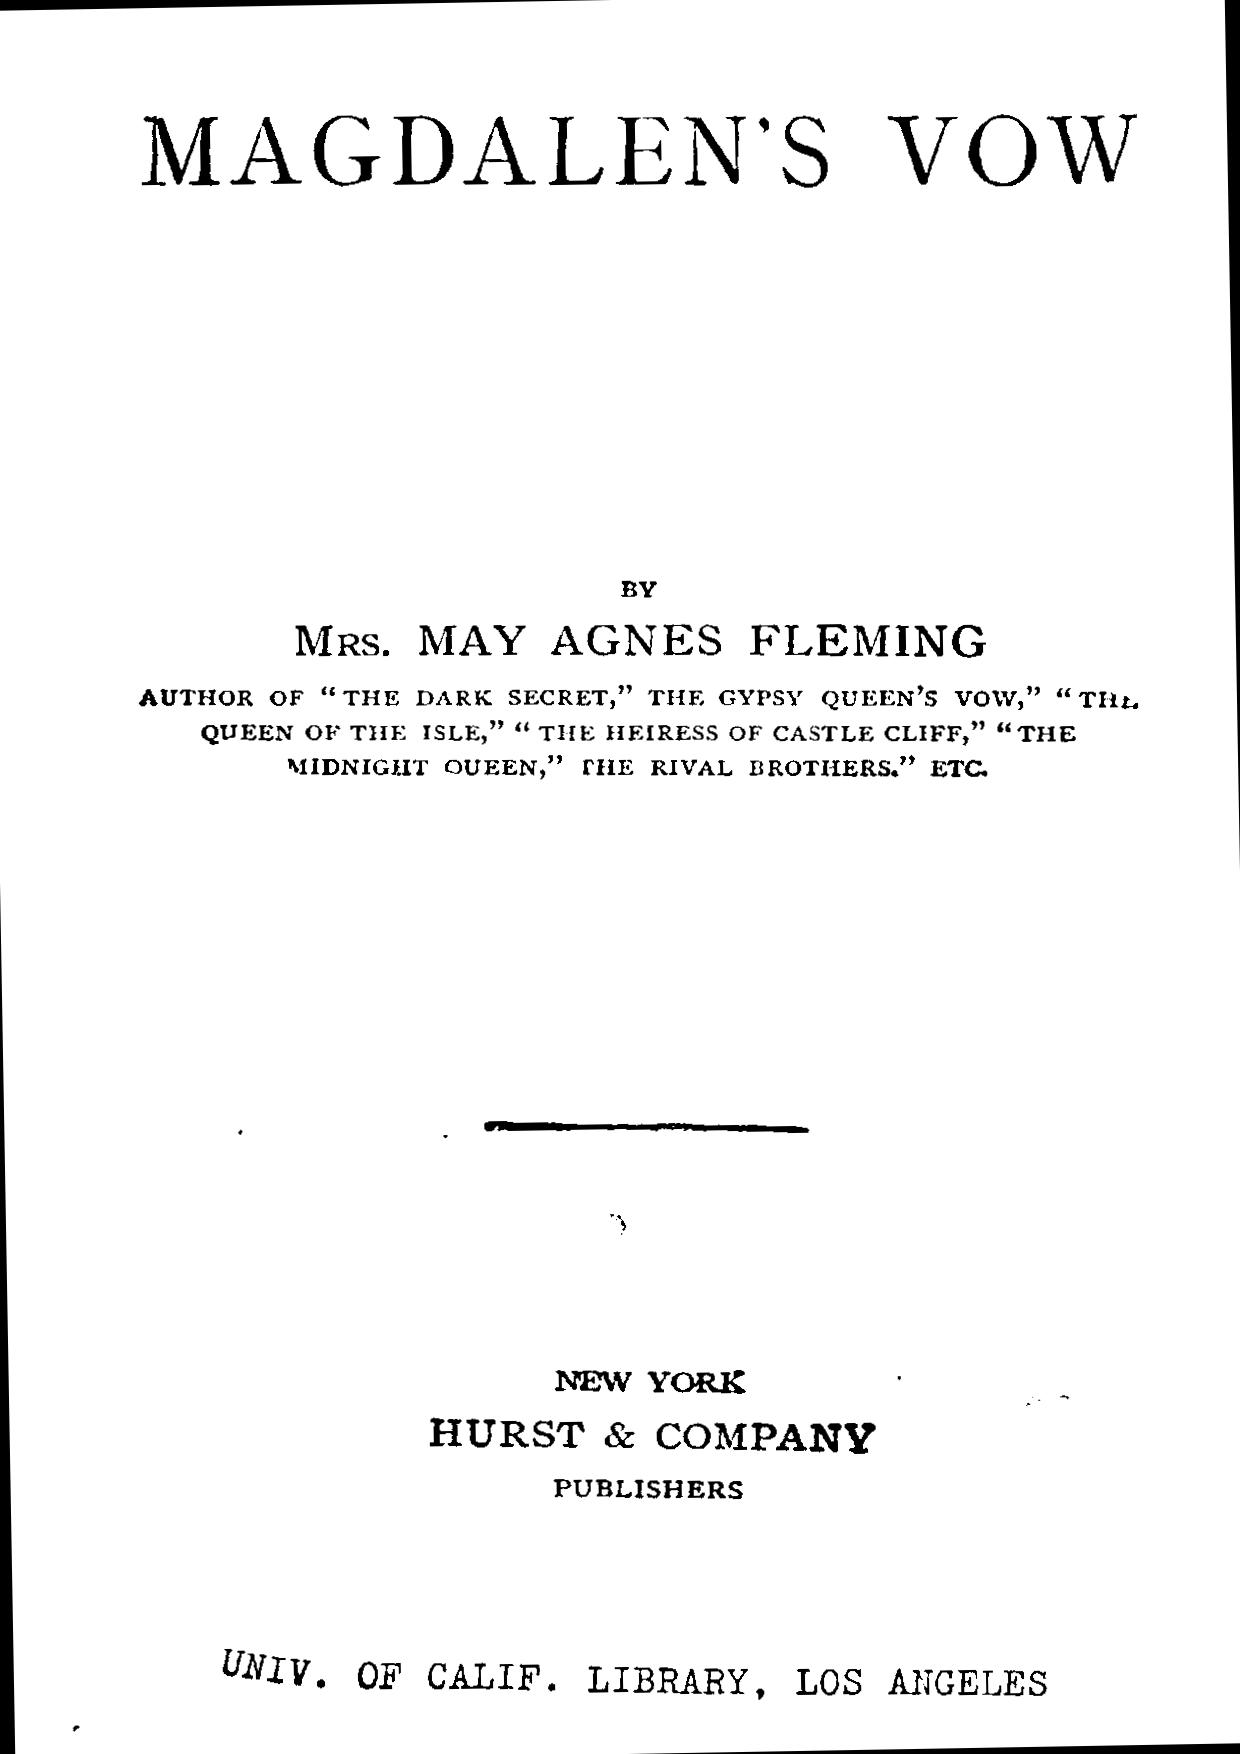author: (293, 577, 986, 658)
title: (136, 110, 1137, 189)
